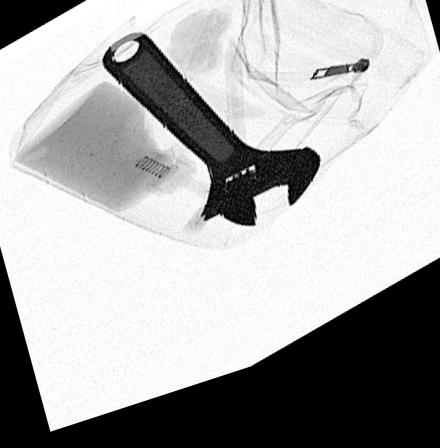Wrench: (98, 36, 321, 241)
